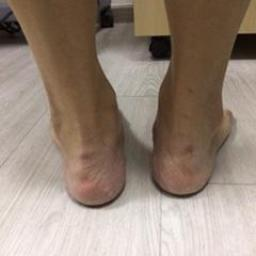Back View -Both Feet-: (28, 51, 246, 210)
